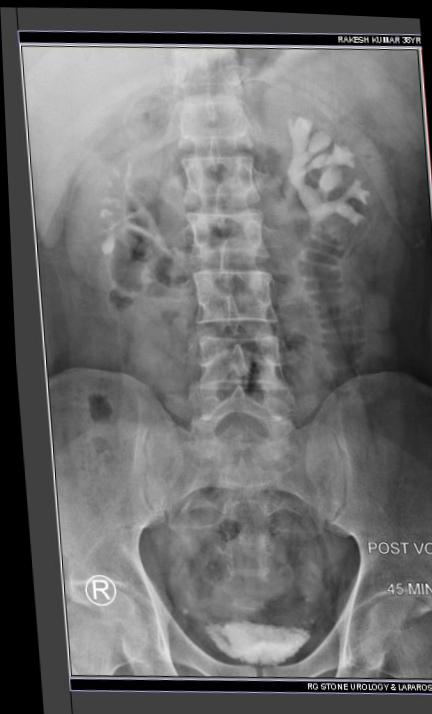bladder: (174, 628, 301, 709)
left kidney: (265, 79, 391, 275)
vertebrae: (150, 131, 256, 207)
